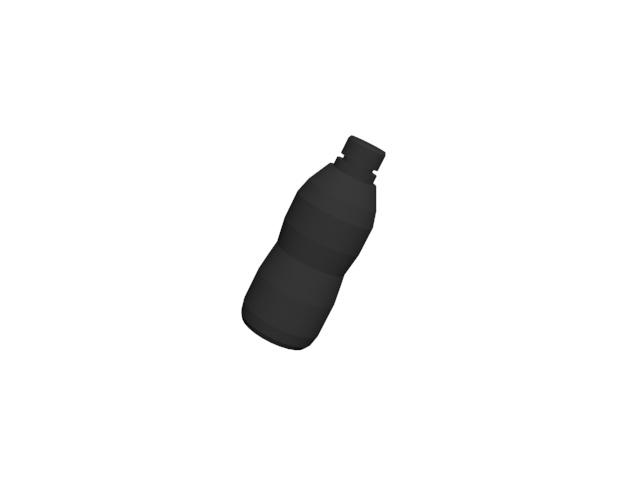bottle: (241, 129, 392, 352)
